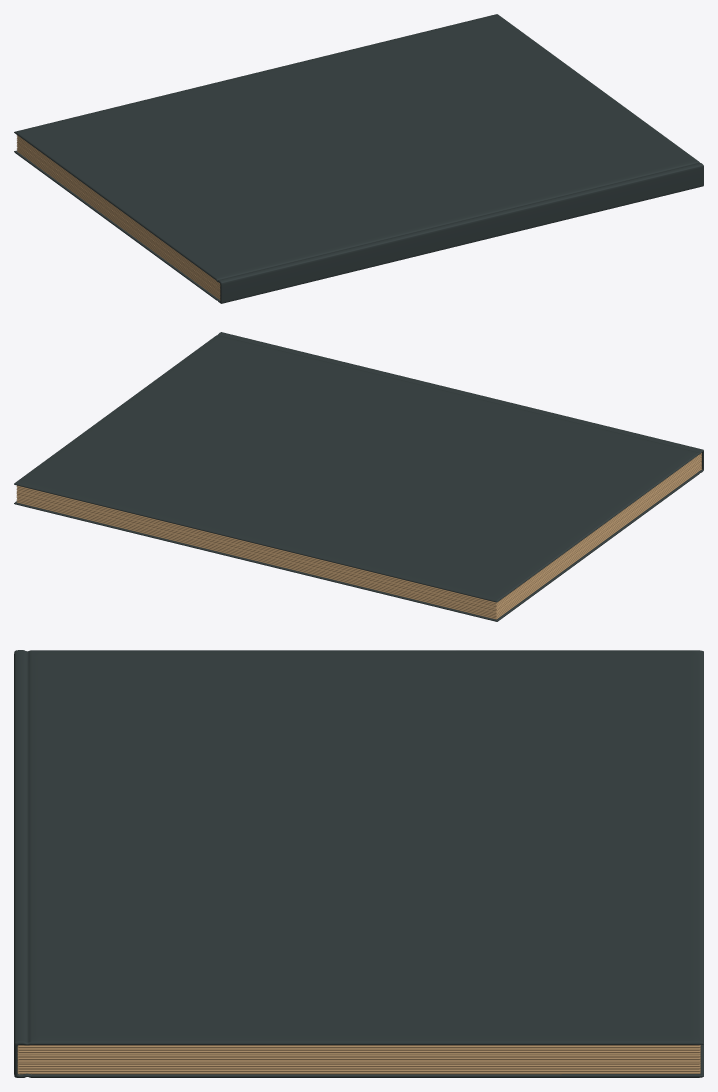
The model's file is misc_notebook_a01.glb.
3 renders of one model, top to bottom at view 1: azimuth 30°, elevation 25°; view 2: azimuth 150°, elevation 25°; view 3: azimuth 270°, elevation 25°, orthographic. The views are drawn at different scales.
Size of the model in its own units: 0.2289 by 0.01 by 0.17.
